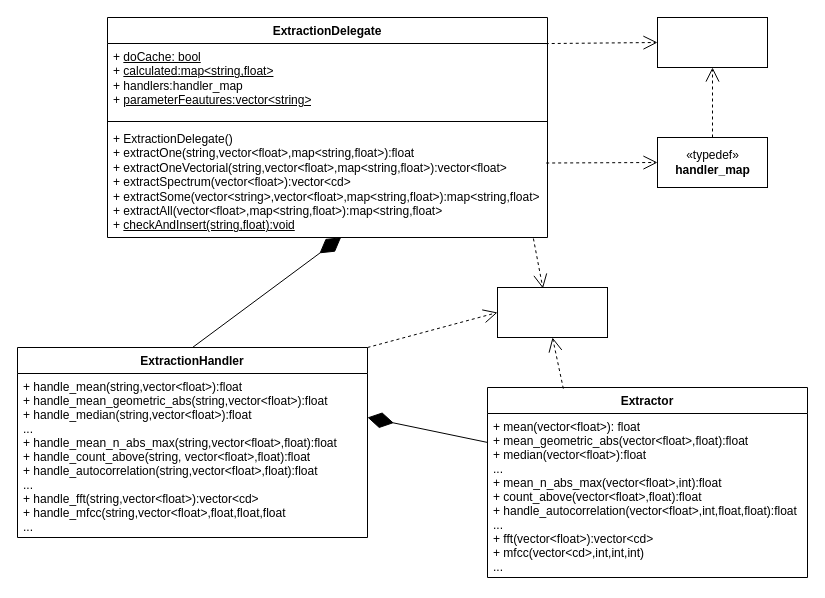
Image size: 825x598. Some labels were removed from this diagram. The shapes that lost their labels are listed below. From the top down, each one's centre as x and y in pixels, then its label:
the point at 712,42: «typedef» handler_func
the point at 552,312: «typedef» my_complex
